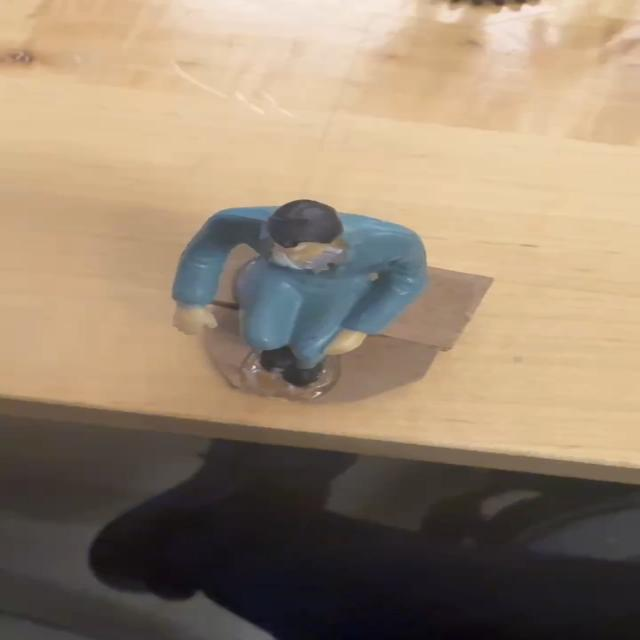Authorized: (57, 190, 522, 420)
